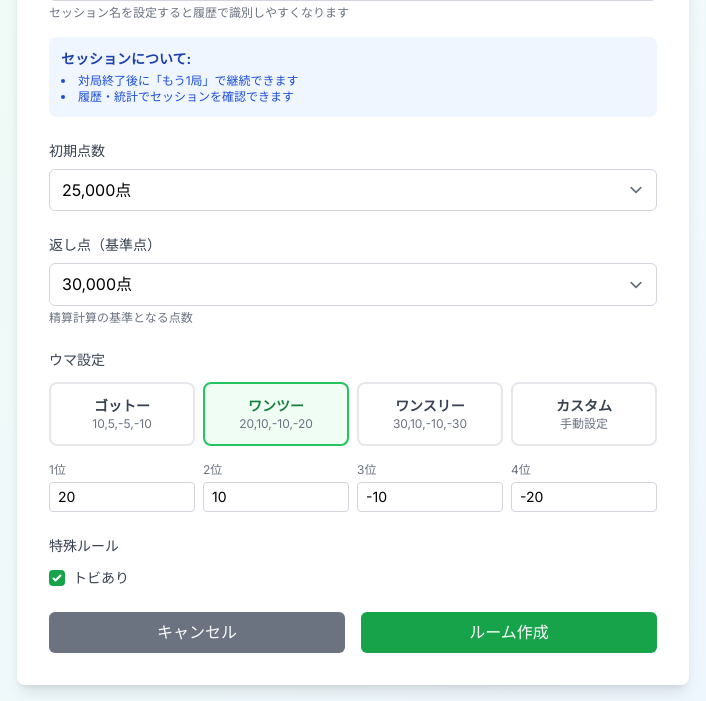
CreateRoomPage › updates uma preset when button clicked
(page scrolled)
Click the text "ゴットー": (122,406) top-left (94, 397), bottom-right (150, 414)
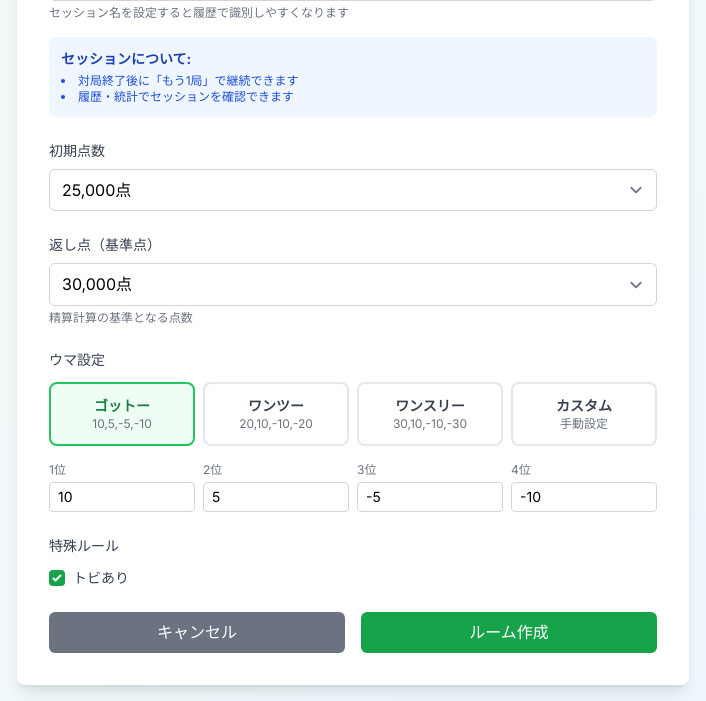
Result: the number field below "1位" holds "10" at top-left (49, 482), bottom-right (195, 512)
Result: the number field below "2位" holds "5" at top-left (203, 482), bottom-right (349, 512)
Result: the number field below "3位" holds "-5" at top-left (357, 482), bottom-right (503, 512)
